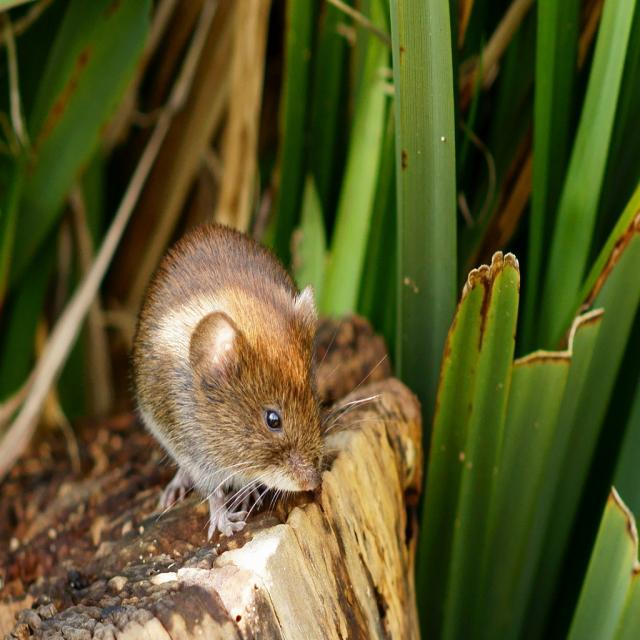rat: (131, 218, 391, 538)
